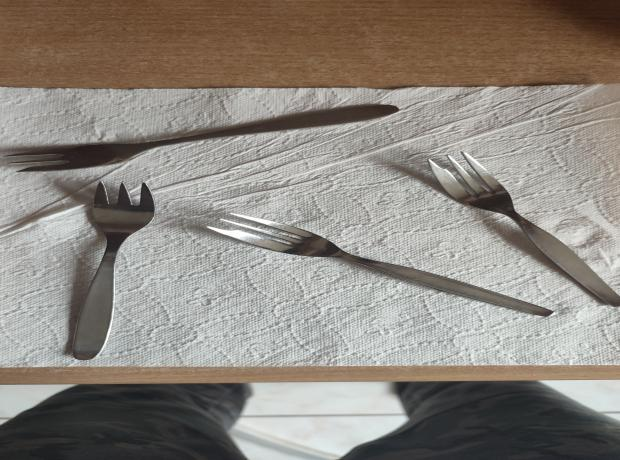metal: (204, 211, 553, 317), (424, 150, 620, 307), (4, 103, 403, 173), (70, 181, 157, 360)
